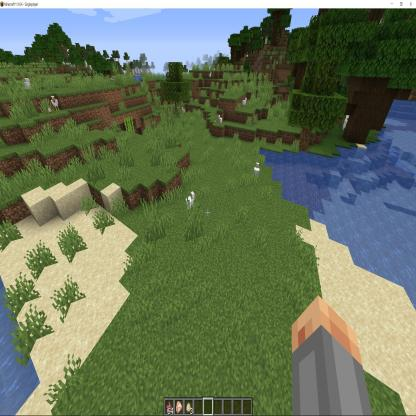minecraft-pigs: (184, 186, 209, 247), (164, 160, 169, 168)
